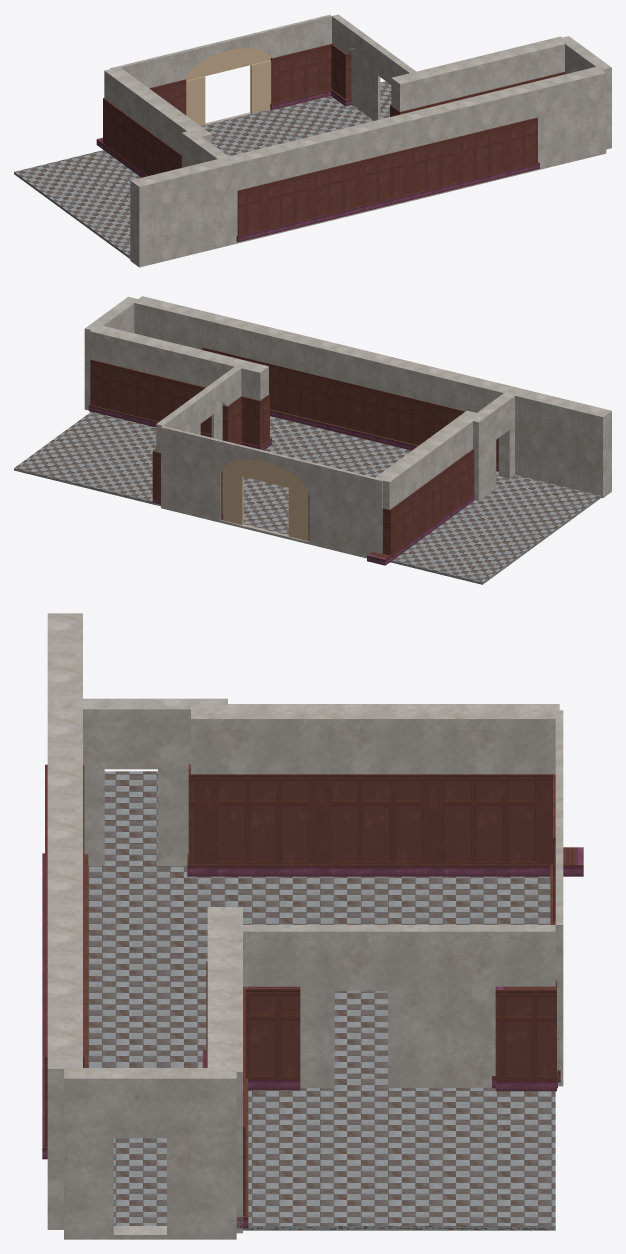
File: LobbyRough.glb
3 views of the same model, one above another, from view 1: azimuth 30°, elevation 25°; view 2: azimuth 150°, elevation 25°; view 3: azimuth 270°, elevation 25° (orthographic). The views are drawn at different scales.
Visible parts, largest first — view 1: Walls, PanelNorth, Floor, PanelE, PanelSouthB, obj_17, PanelWestA, obj_18, obj_19, PanelSouthA, PanelCorridor; view 2: Walls, Floor, PanelNorth, PanelCorridor, PanelE, obj_17, obj_18, obj_19, PanelWestB, PanelWestA; view 3: Walls, Floor, PanelE, PanelWestA, PanelWestB, PanelNorth, PanelCorridor.
Part boxes in pixels (x1,y1,x2,y2): Walls: (104,14,611,267); PanelNorth: (236,117,539,242); Floor: (14,81,391,258); PanelE: (96,98,181,177); PanelSouthB: (270,44,331,110); obj_17: (185,48,270,80); PanelWestA: (330,43,351,106); obj_18: (250,60,271,113); obj_19: (186,76,205,125); PanelSouthA: (149,79,186,115); PanelCorridor: (390,71,565,116); Walls: (84,296,611,562); Floor: (14,411,600,584); PanelNorth: (202,347,498,471); PanelCorridor: (88,359,271,450); PanelE: (367,449,474,565); obj_17: (222,459,308,492); obj_18: (222,471,243,524); obj_19: (288,488,308,541); PanelWestB: (222,396,242,444); PanelWestA: (152,449,160,504); Walls: (47,613,563,1239); Floor: (88,771,555,1230); PanelE: (187,764,583,876); PanelWestA: (492,980,557,1091); PanelWestB: (243,986,300,1090); PanelNorth: (42,764,88,1159); PanelCorridor: (202,961,248,1228).
Bounding box in the file's own units: 217 × 35 × 106.
Materials: 4 (3 with a texture image).
